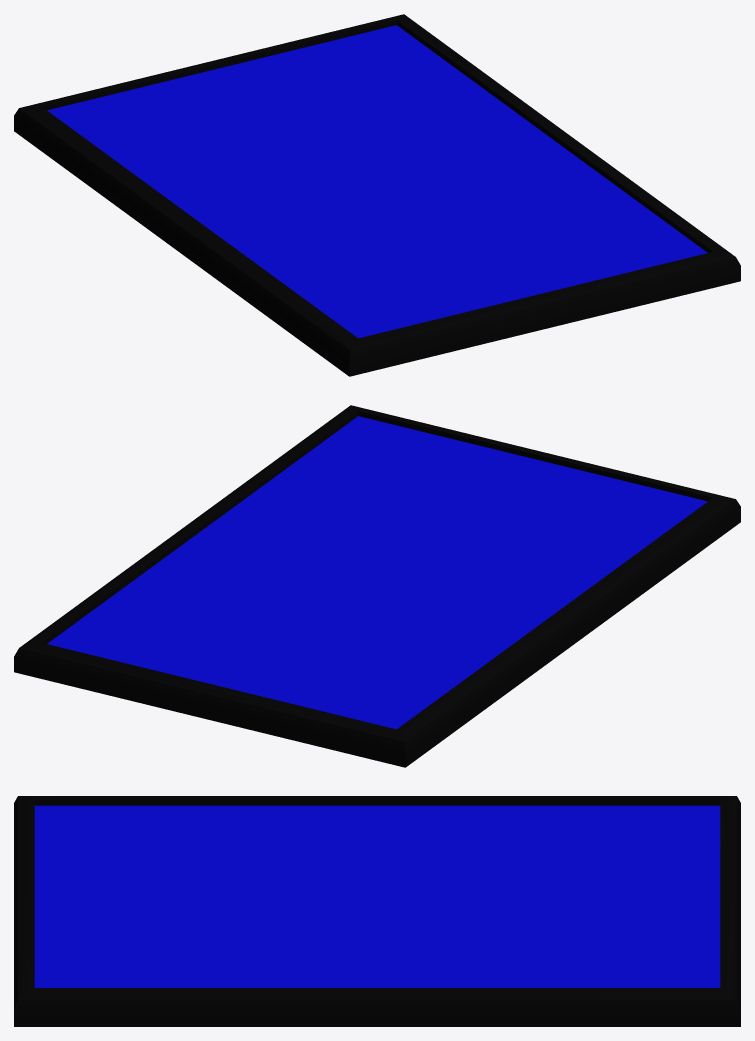
File: SM_CardBoard.fbx
The picture shows the model from 3 angles, top to bottom: view 1: azimuth 30°, elevation 25°; view 2: azimuth 150°, elevation 25°; view 3: azimuth 270°, elevation 25°; orthographic projection. The views are drawn at different scales.
Parts seen in each view (by area): view 1: pCube1; view 2: pCube1; view 3: pCube1.
Boxes of the visible parts, x1,y1,x2,y2 form: pCube1: [14, 14, 740, 376]; pCube1: [14, 405, 740, 767]; pCube1: [14, 796, 740, 1026].
Bounding box in the file's own units: 41.87 × 2.76 × 62.14.
